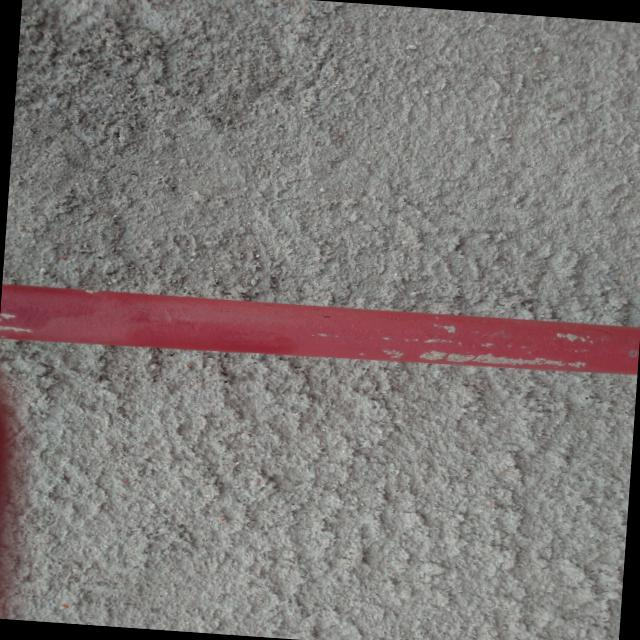gas: (0, 285, 640, 372)
